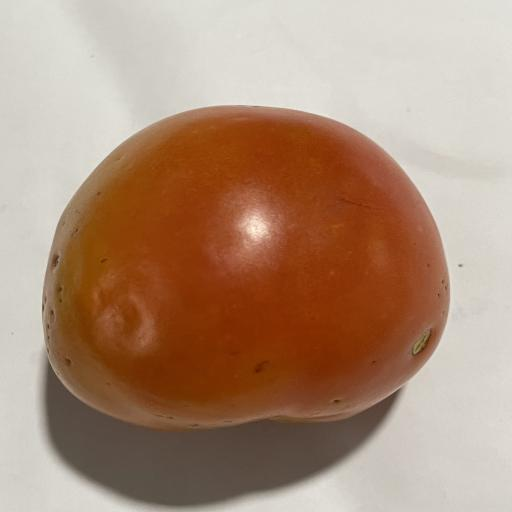ripe: (41, 106, 449, 431)
